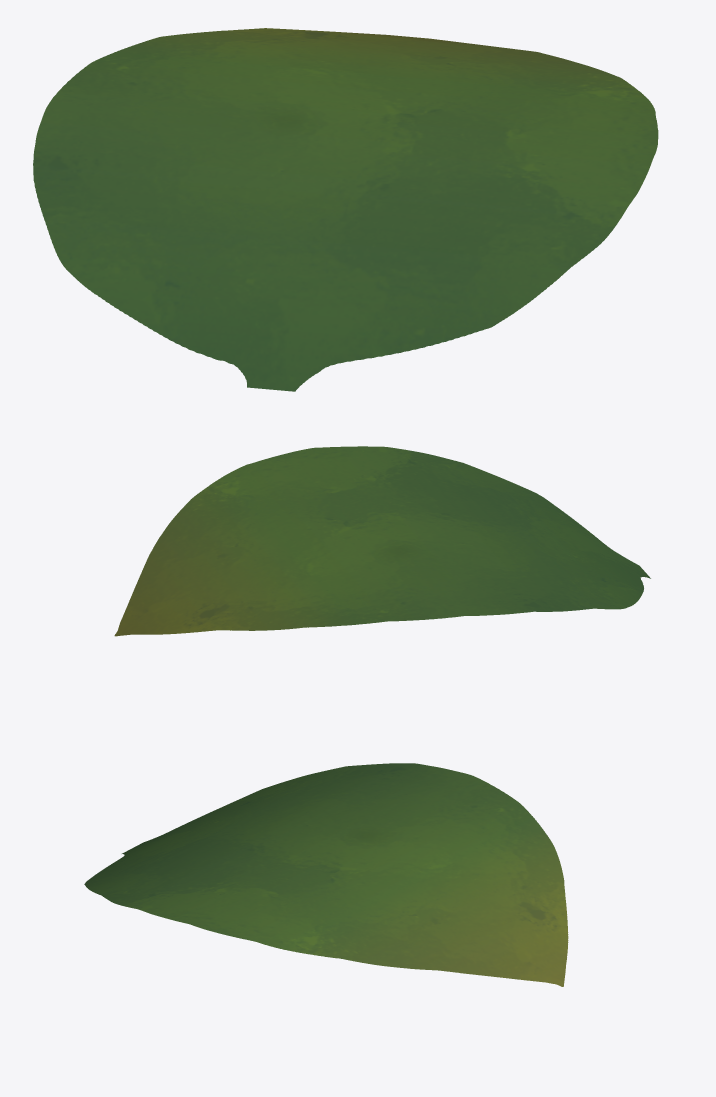
The model's file is Feuille_Seule.fbx.
3 views of the same model, one above another, from view 1: azimuth 30°, elevation 25°; view 2: azimuth 150°, elevation 25°; view 3: azimuth 270°, elevation 25° (orthographic). The views are drawn at different scales.
Visible parts, largest first — view 1: Plantes8_SetPlantes__1_; view 2: Plantes8_SetPlantes__1_; view 3: Plantes8_SetPlantes__1_.
Boxes of the visible parts, bbox=[...] form: Plantes8_SetPlantes__1_: bbox=[33, 28, 658, 391]; Plantes8_SetPlantes__1_: bbox=[114, 446, 650, 636]; Plantes8_SetPlantes__1_: bbox=[84, 763, 568, 986].
Size of the model in its own units: 0.5124 by 0.5387 by 0.0773.
